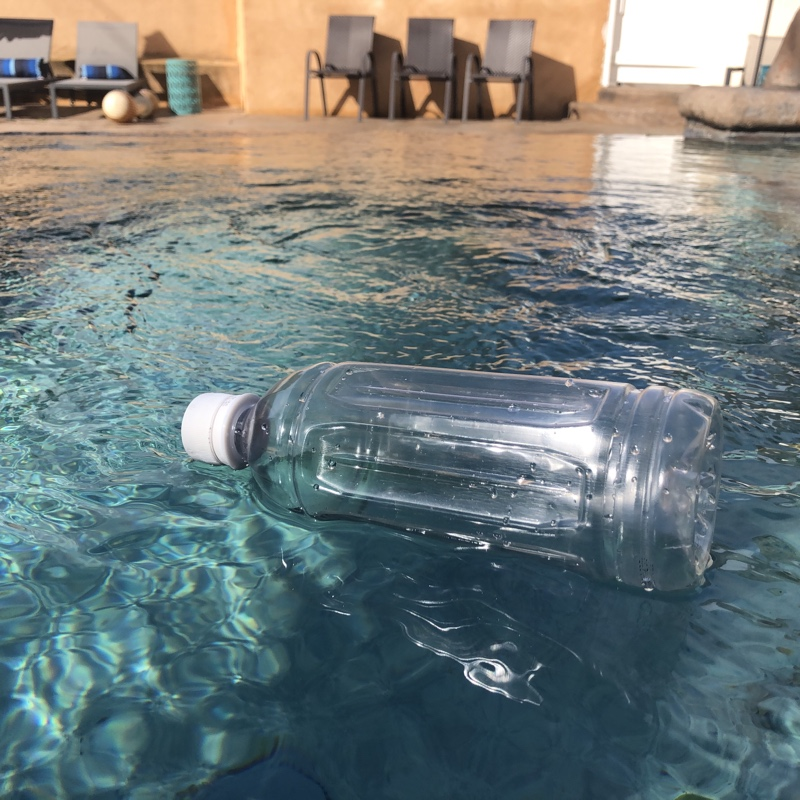Plastic Bottle: (178, 354, 727, 606)
